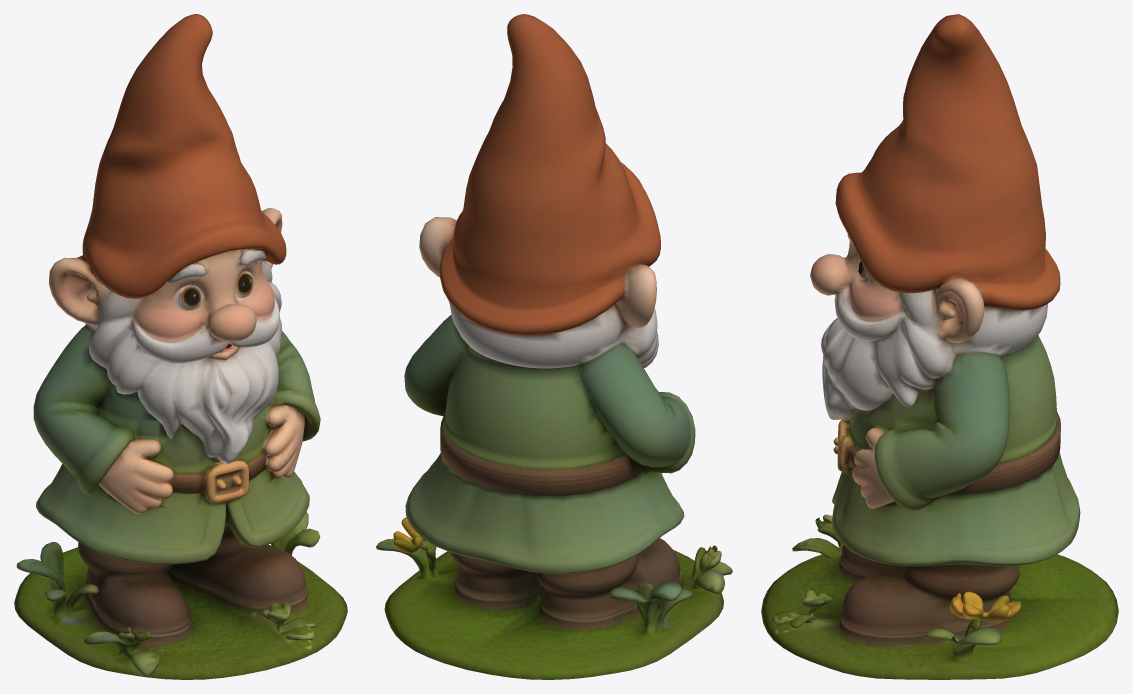
File: garden_gnome_everyday_realistic_style_ae3edc0f_v1.glb
3 views of the same model, side by side, from view 1: azimuth 30°, elevation 25°; view 2: azimuth 150°, elevation 25°; view 3: azimuth 270°, elevation 25° (orthographic). The views are drawn at different scales.
Parts seen in each view (by area): view 1: mesh_input; view 2: mesh_input; view 3: mesh_input.
Boxes of the visible parts, x1=… form: mesh_input: x1=14, y1=14, x2=347, y2=679; mesh_input: x1=376, y1=14, x2=732, y2=679; mesh_input: x1=761, y1=14, x2=1118, y2=679.
Size of the model in its own units: 0.9941 by 1.9 by 1.02.
Materials: 1 (1 with a texture image).
